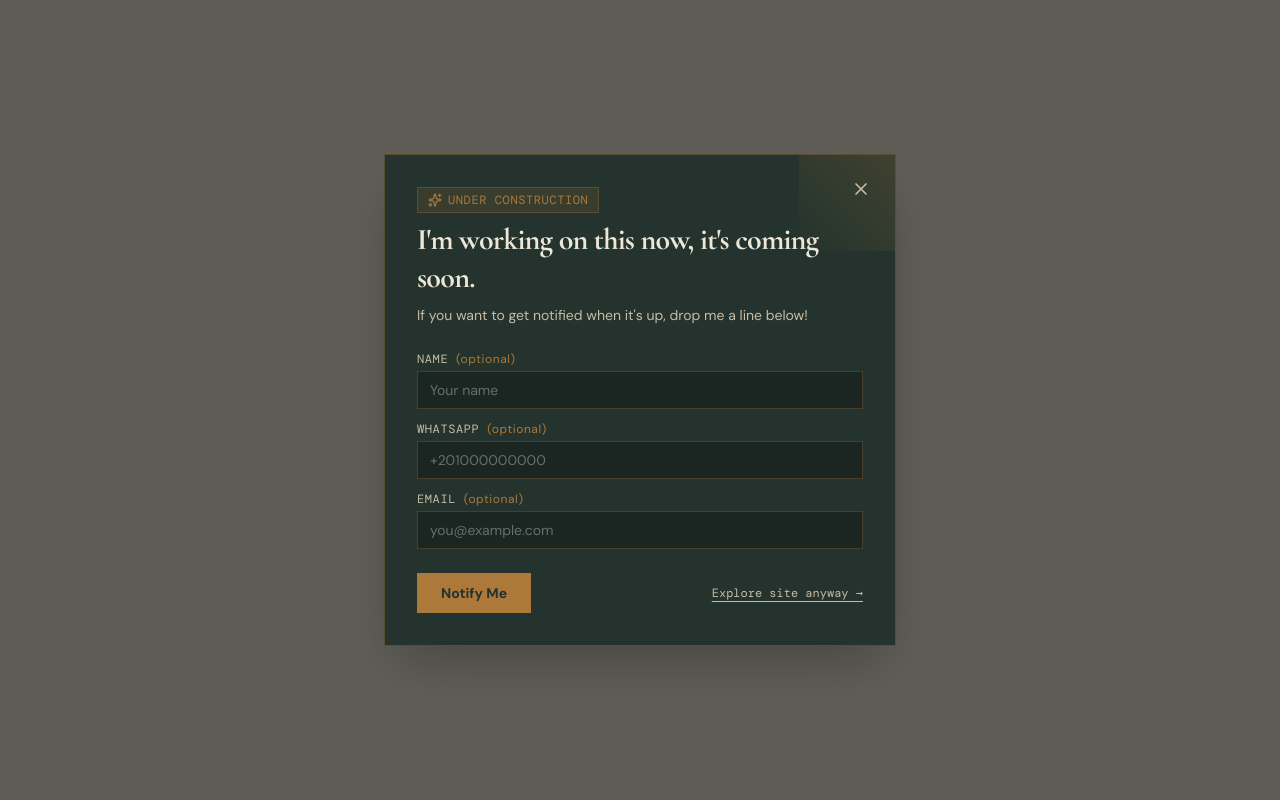
ComingSoonModal Component › submits successfully when email is provided
Type "Alex" into the field labelled "Name (optional)".
click(640, 390); type("Alex")  # box [417,371,863,409]
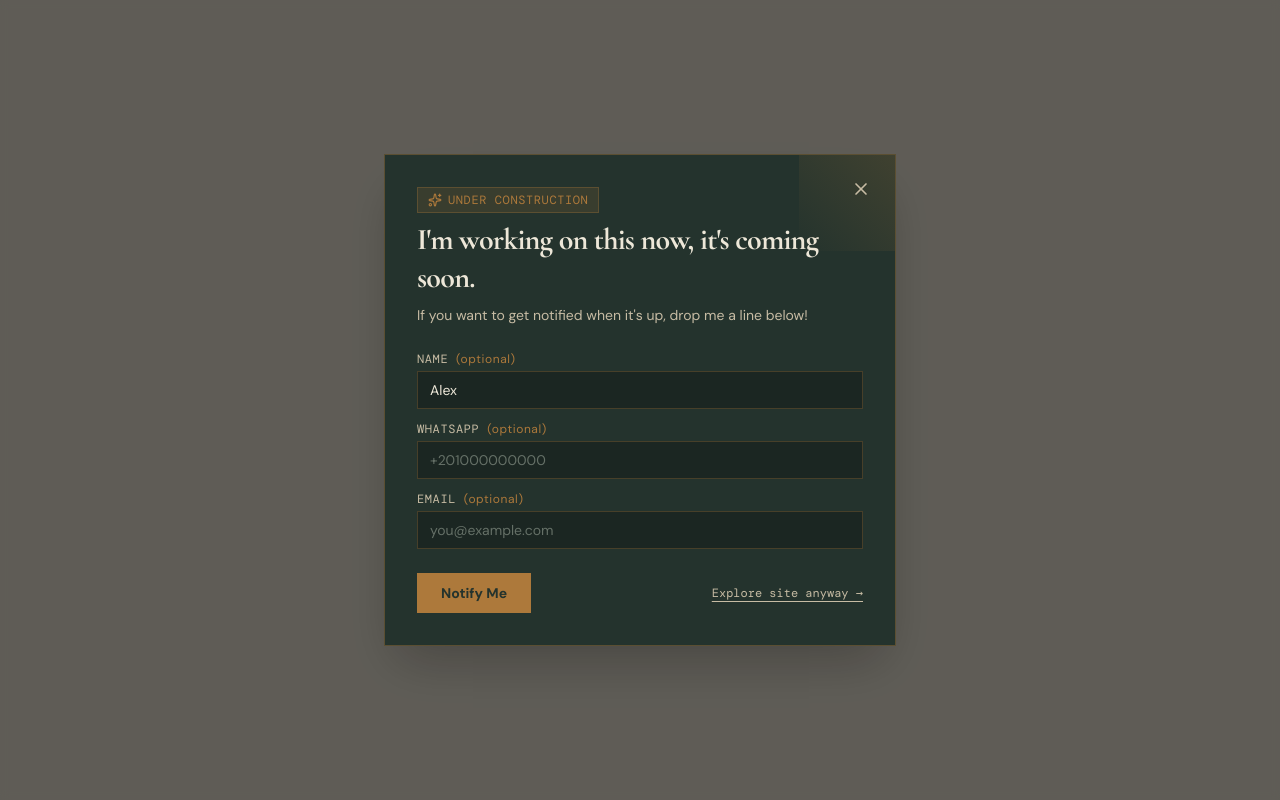
Type "alex@example.com" into the field labelled "Email (optional)".
click(640, 530); type("alex@example.com")  # box [417,511,863,549]
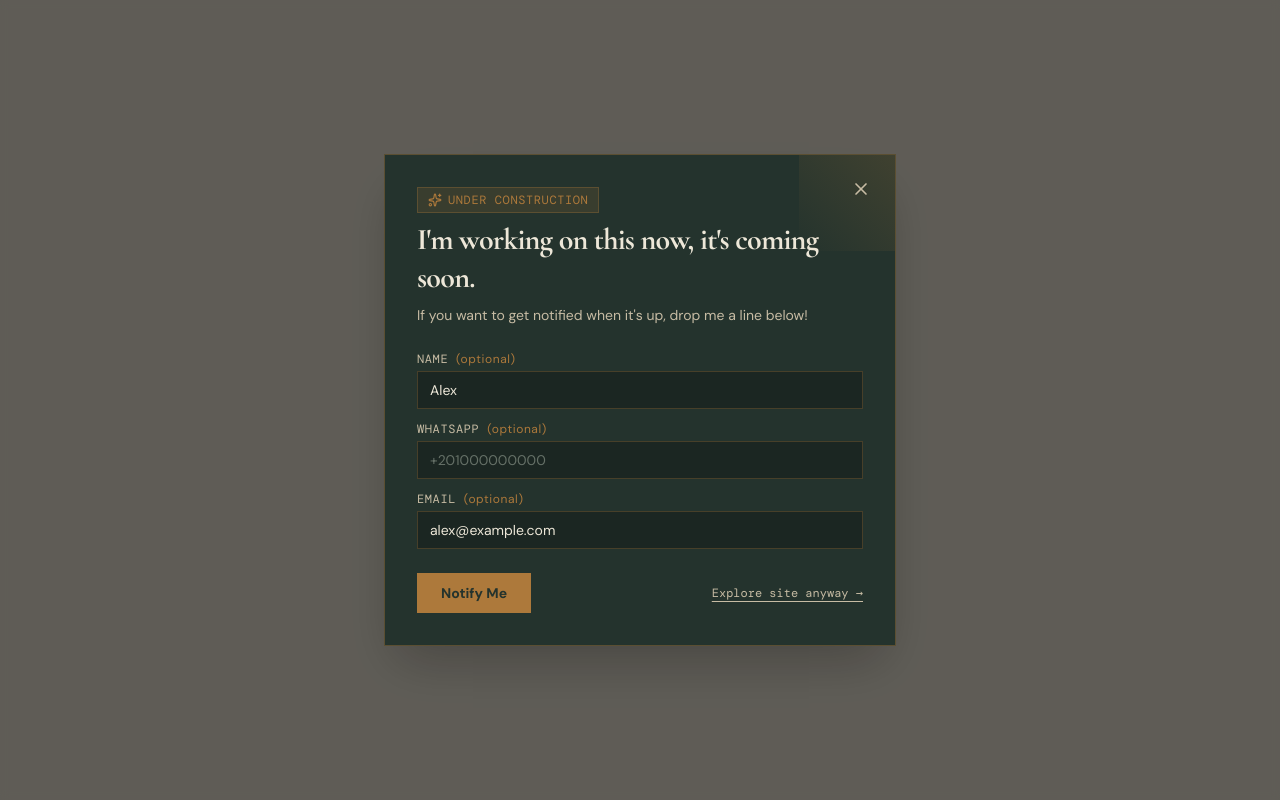
Click the button "Notify Me".
click(474, 593)  # box [417,573,531,613]
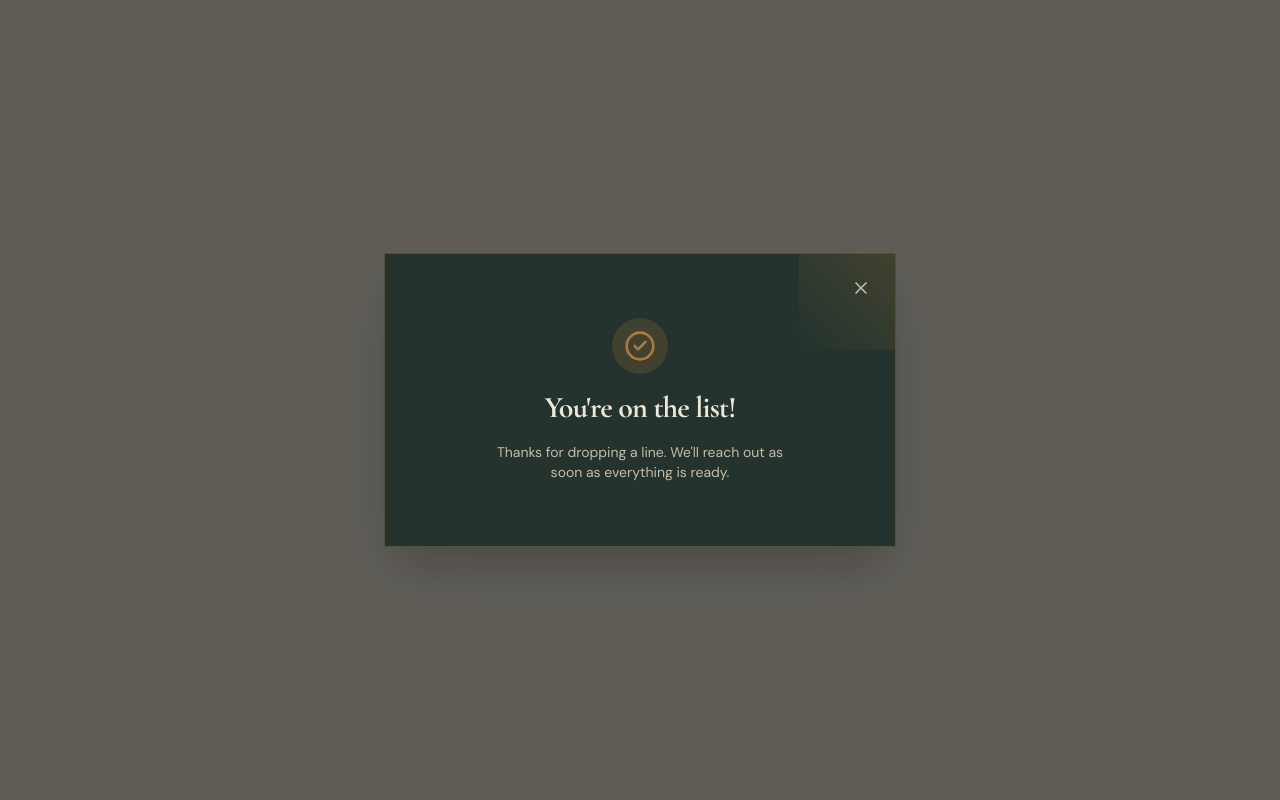
Expected: the heading "You're on the list!" is shown, [544,389,736,426]
